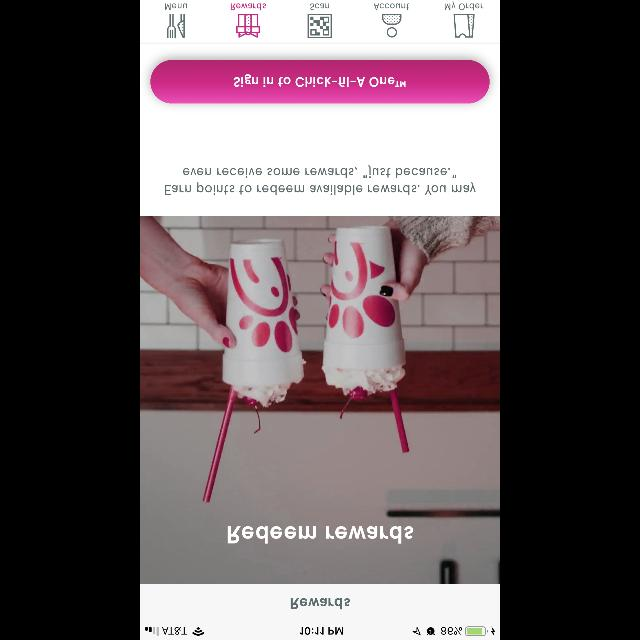icon: (236, 14, 260, 38), (382, 14, 402, 38)
image: (140, 216, 500, 584), (308, 14, 332, 38), (454, 14, 474, 38), (168, 14, 185, 38)
text: (164, 165, 476, 195), (227, 526, 413, 544), (290, 598, 350, 610), (444, 1, 484, 10), (374, 4, 408, 10), (232, 4, 266, 10), (165, 4, 187, 10), (310, 4, 330, 10)
textbutton: (150, 60, 490, 104)
uppertaskbar: (140, 626, 500, 640)
